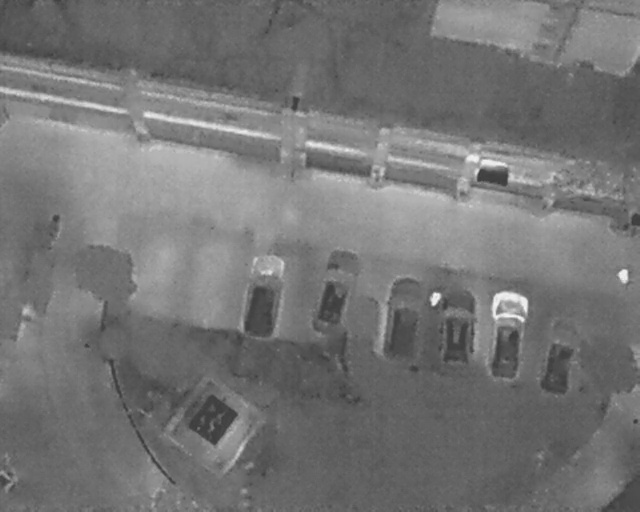Car: (308, 243, 369, 338), (234, 249, 289, 343), (377, 273, 429, 365), (533, 313, 587, 400), (483, 289, 531, 383), (437, 288, 479, 369)
Person: (425, 287, 445, 309), (615, 266, 630, 286)
